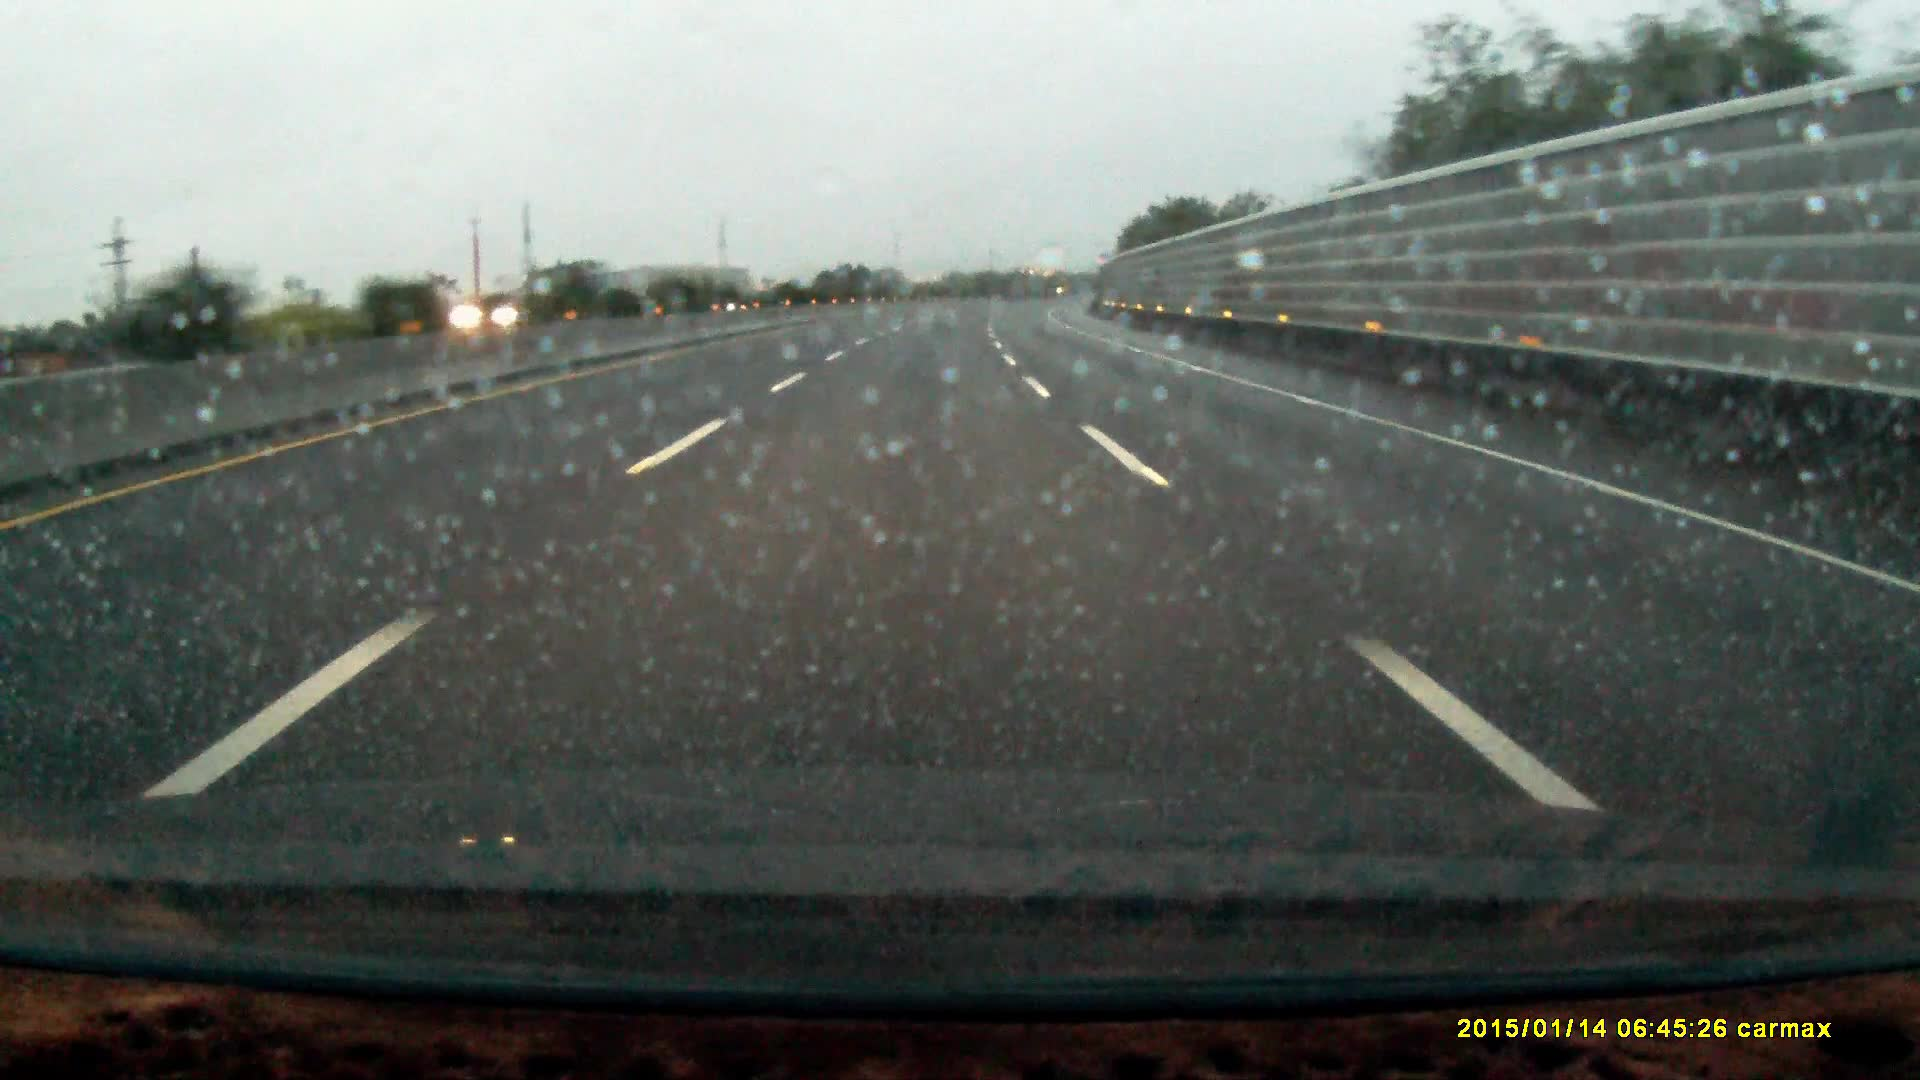vehicle: (436, 294, 549, 334)
